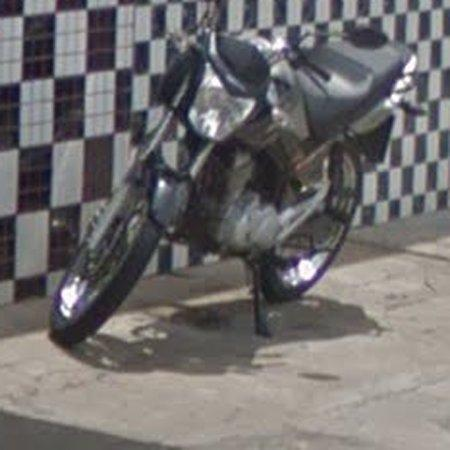motorcycles: (49, 3, 415, 346)
